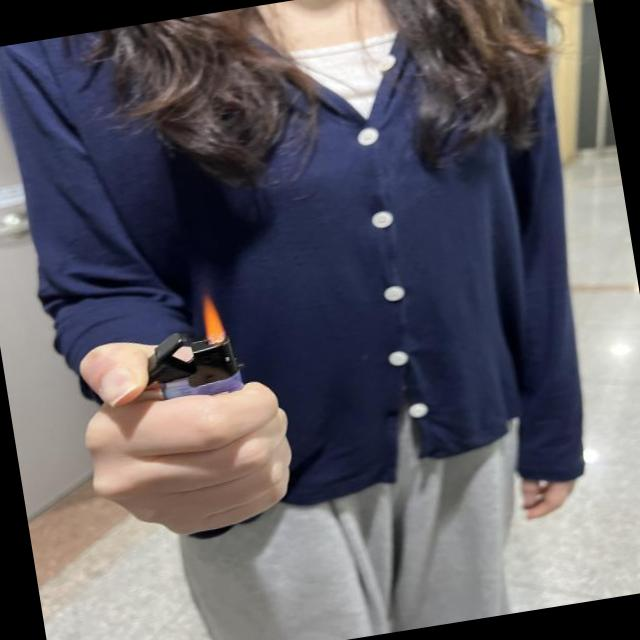Fire: (197, 288, 230, 348)
